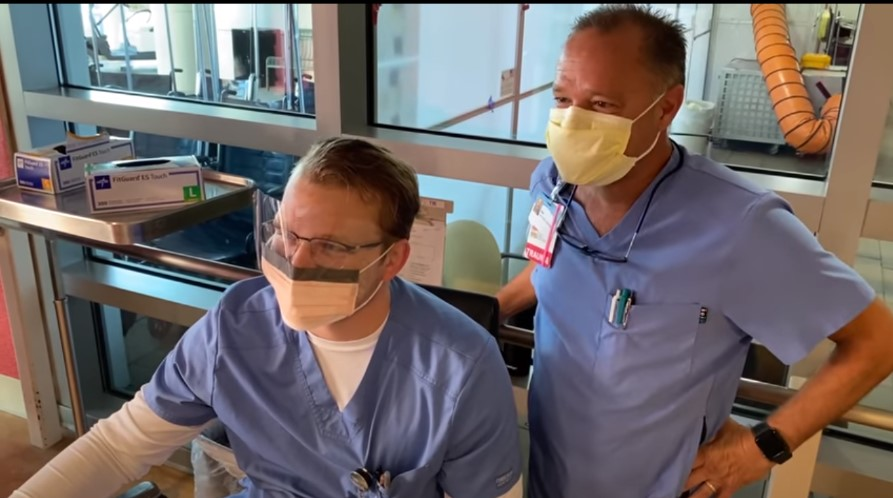face_with_mask: (255, 138, 417, 334), (543, 19, 685, 190)
